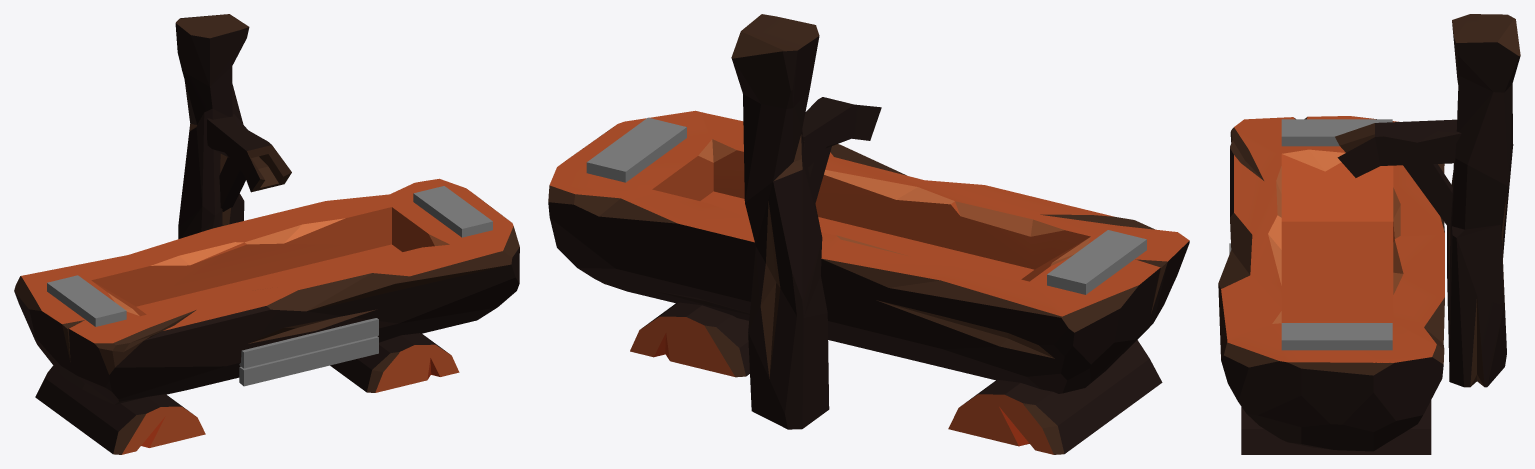
File: Watering_Place_1.fbx
The picture shows the model from 3 angles, left to right: view 1: azimuth 30°, elevation 25°; view 2: azimuth 150°, elevation 25°; view 3: azimuth 270°, elevation 25°; orthographic projection. The views are drawn at different scales.
Parts seen in each view (by area): view 1: Watering_Place_1; view 2: Watering_Place_1; view 3: Watering_Place_1.
Part boxes in pixels (x1,y1,x2,y2): Watering_Place_1: (14, 14, 519, 454); Watering_Place_1: (548, 14, 1189, 454); Watering_Place_1: (1218, 14, 1520, 454).
Size of the model in its own units: 56.35 by 36.55 by 28.82.
